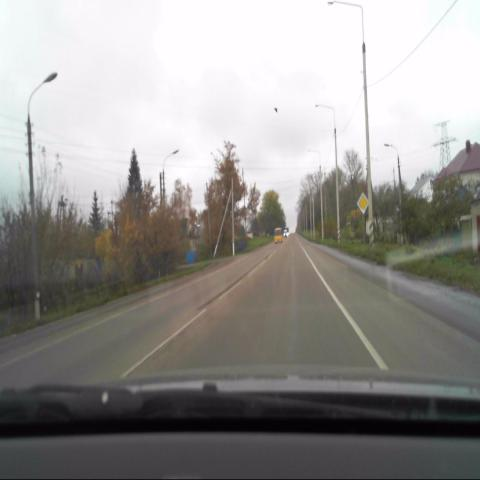2_1: (357, 191, 370, 216)
